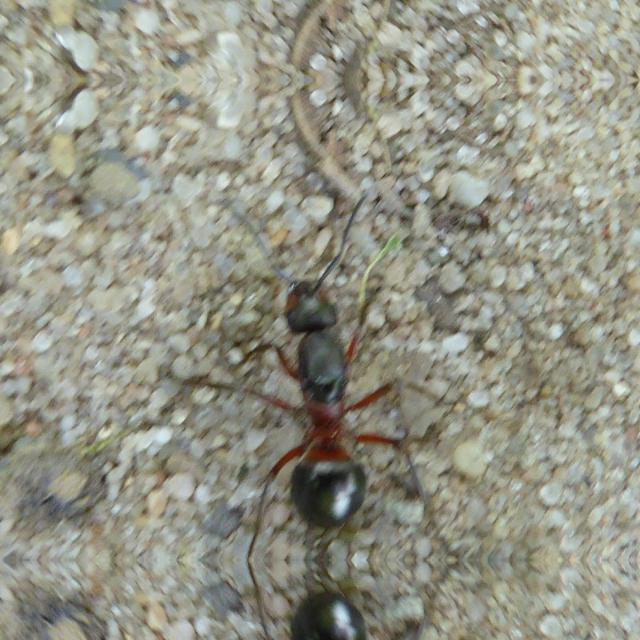Formica: (241, 245, 423, 537)
